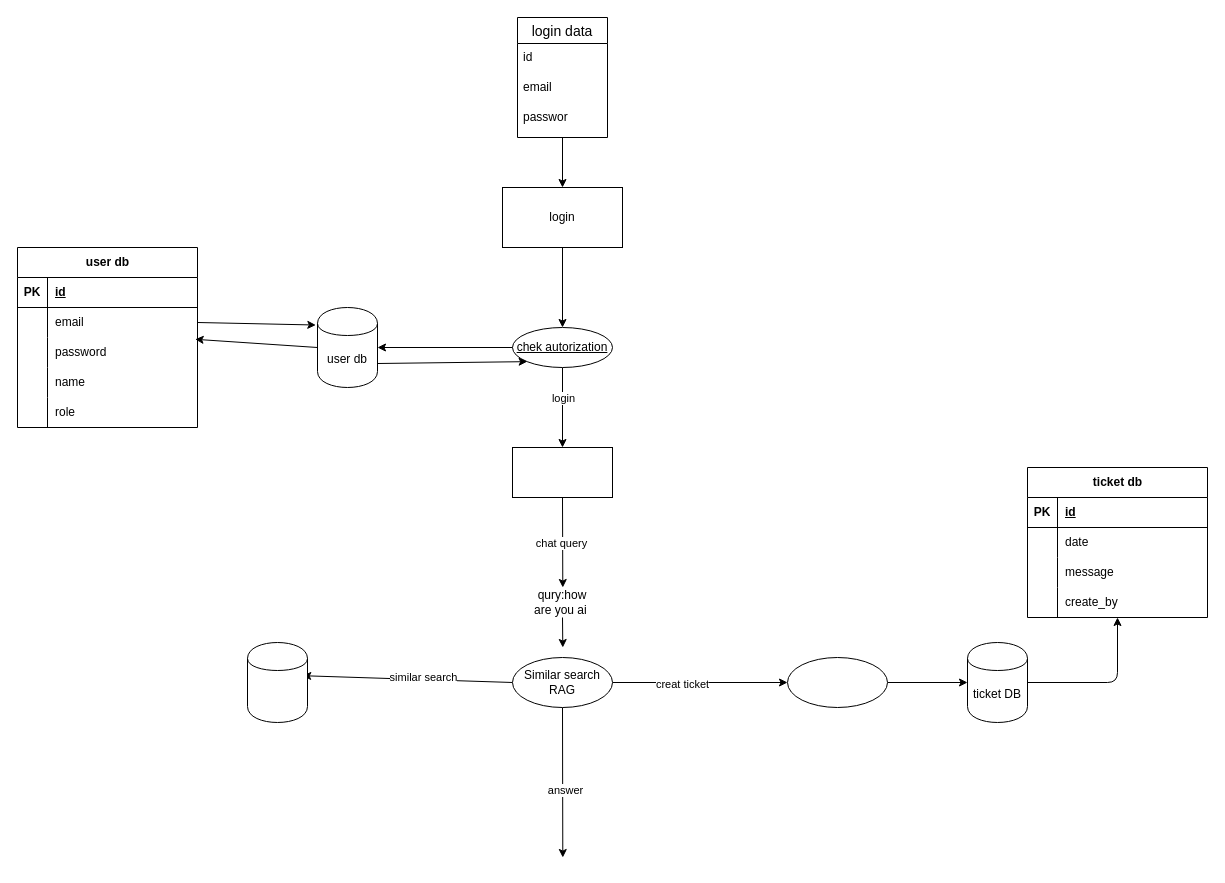
Some shapes in this 1225 by 883 pixel diagram are drawn without their labels. Here are the shapes that lost their labels. From the top down, the centre of each, then its label:
pixel 562 472: /chat
pixel 277 682: RAG
pixel 837 682: DB tast
